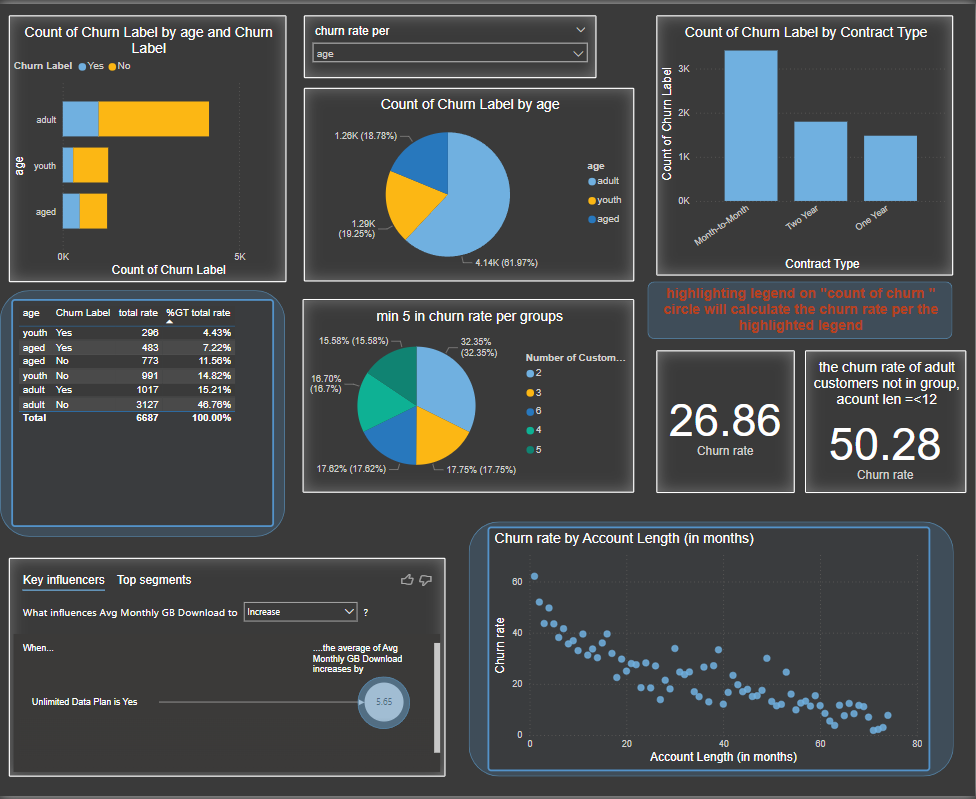

This screenshot's page, from the dashboard's own definition file:
{"tool":"powerbi","page":{"name":"Churns","canvas":[1300,1056],"ordinal":0},"visuals":[{"type":"shape","box":[625,690,646.7,340],"z":0},{"type":"shape","box":[0,381.4,380,328.6],"z":1000},{"type":"barChart","fields":{"Category":["SkyLink - Dataset.age category"],"Y":["CountNonNull(SkyLink - Dataset.Churn Label)"],"Series":["SkyLink - Dataset.Churn Label"]},"box":[11.4,14.3,370,355.7],"z":2000},{"type":"tableEx","fields":{"Values":["SkyLink - Dataset.age category","SkyLink - Dataset.Churn Label","SkyLink - Dataset.rate1","SkyLink - Dataset.rate"]},"box":[15.7,392.9,350,304.3],"z":3000},{"type":"slicer","fields":{"Values":["churn rate.churn rate"]},"box":[404.3,14.3,390,84.3],"z":4000},{"type":"pieChart","fields":{"Category":["SkyLink - Dataset.age category"],"Y":["CountNonNull(SkyLink - Dataset.Churn Label)"]},"box":[404.5,111.4,440.5,258.8],"z":5000},{"type":"columnChart","fields":{"Category":["SkyLink - Dataset.Contract Type"],"Y":["CountNonNull(SkyLink - Dataset.Churn Label)"]},"box":[874.5,14.7,396.3,347.2],"z":6000},{"type":"card","fields":{"Values":["SkyLink - Dataset.Churn rate"]},"box":[875,461.7,185,190],"z":7000},{"type":"pieChart","title":"min 5 in churn rate per groups","fields":{"Category":["SkyLink - Dataset.Number of Customers in Group"],"Y":["Divide(CountNonNull(SkyLink - Dataset.Churn Label), ScopedEval(CountNonNull(SkyLink - Dataset.Churn Label), []))"]},"box":[402.9,393.1,442.2,258.8],"z":8000},{"type":"card","title":"the churn rate of adult customers not in group, acount len =<12","fields":{"Values":["SkyLink - Dataset.Churn rate"]},"box":[1073.3,461.7,215,190],"z":9000},{"type":"scatterChart","fields":{"X":["SkyLink - Dataset.Account Length (in months)"],"Y":["SkyLink - Dataset.Churn rate"]},"box":[650,696,590,326],"z":10000},{"type":"keyDriversVisual","fields":{"Target":["SkyLink - Dataset.Avg Monthly GB Download"],"ExplainBy":["SkyLink - Dataset.Unlimited Data Plan"]},"box":[12,738,582,292],"z":11000},{"type":"shape","box":[476.7,896.7,70,70],"z":12000},{"type":"shape","box":[863.3,370,406.7,76.7],"z":13000},{"type":"textbox","box":[863.3,370,408.3,88.3],"z":14000}]}

Visuals, with their boxes in screenshot pixels (x1, y1, x2, y2), scaled from the page's 1300x1056 canvas onto the 976x799 screenshot:
shape: select_region(469, 522, 955, 779)
shape: select_region(0, 289, 285, 537)
barChart - SkyLink - Dataset.age category x CountNonNull(SkyLink - Dataset.Churn Label): select_region(9, 11, 286, 280)
tableEx - SkyLink - Dataset.age category x SkyLink - Dataset.Churn Label: select_region(12, 297, 275, 528)
slicer - churn rate.churn rate: select_region(304, 11, 596, 75)
pieChart - SkyLink - Dataset.age category x CountNonNull(SkyLink - Dataset.Churn Label): select_region(304, 84, 634, 280)
columnChart - SkyLink - Dataset.Contract Type x CountNonNull(SkyLink - Dataset.Churn Label): select_region(657, 11, 954, 274)
card - SkyLink - Dataset.Churn rate: select_region(657, 349, 796, 493)
"min 5 in churn rate per groups" pieChart: select_region(302, 297, 634, 493)
"the churn rate of adult customers not in group, acount len =<12" card: select_region(806, 349, 967, 493)
scatterChart - SkyLink - Dataset.Account Length (in months) x SkyLink - Dataset.Churn rate: select_region(488, 527, 931, 773)
keyDriversVisual - SkyLink - Dataset.Avg Monthly GB Download x SkyLink - Dataset.Unlimited Data Plan: select_region(9, 558, 446, 779)
shape: select_region(358, 678, 410, 731)
shape: select_region(648, 280, 953, 338)
textbox: select_region(648, 280, 955, 347)
